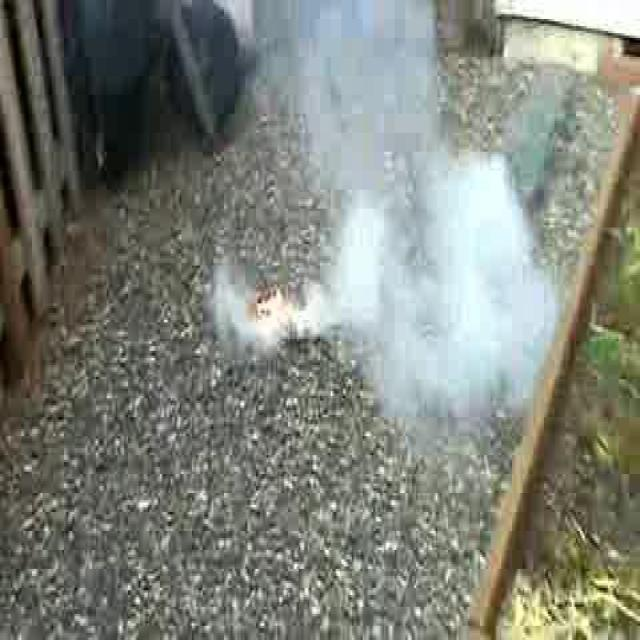Smoke: (200, 0, 559, 469)
